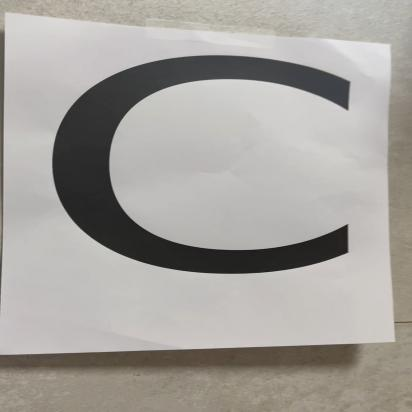seat: (8, 4, 410, 366)
